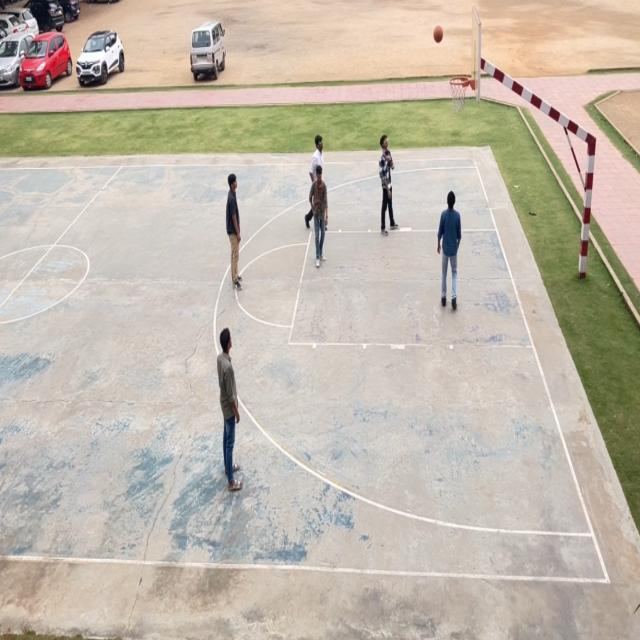basketball: (432, 23, 445, 46)
hoop: (448, 76, 470, 114)
